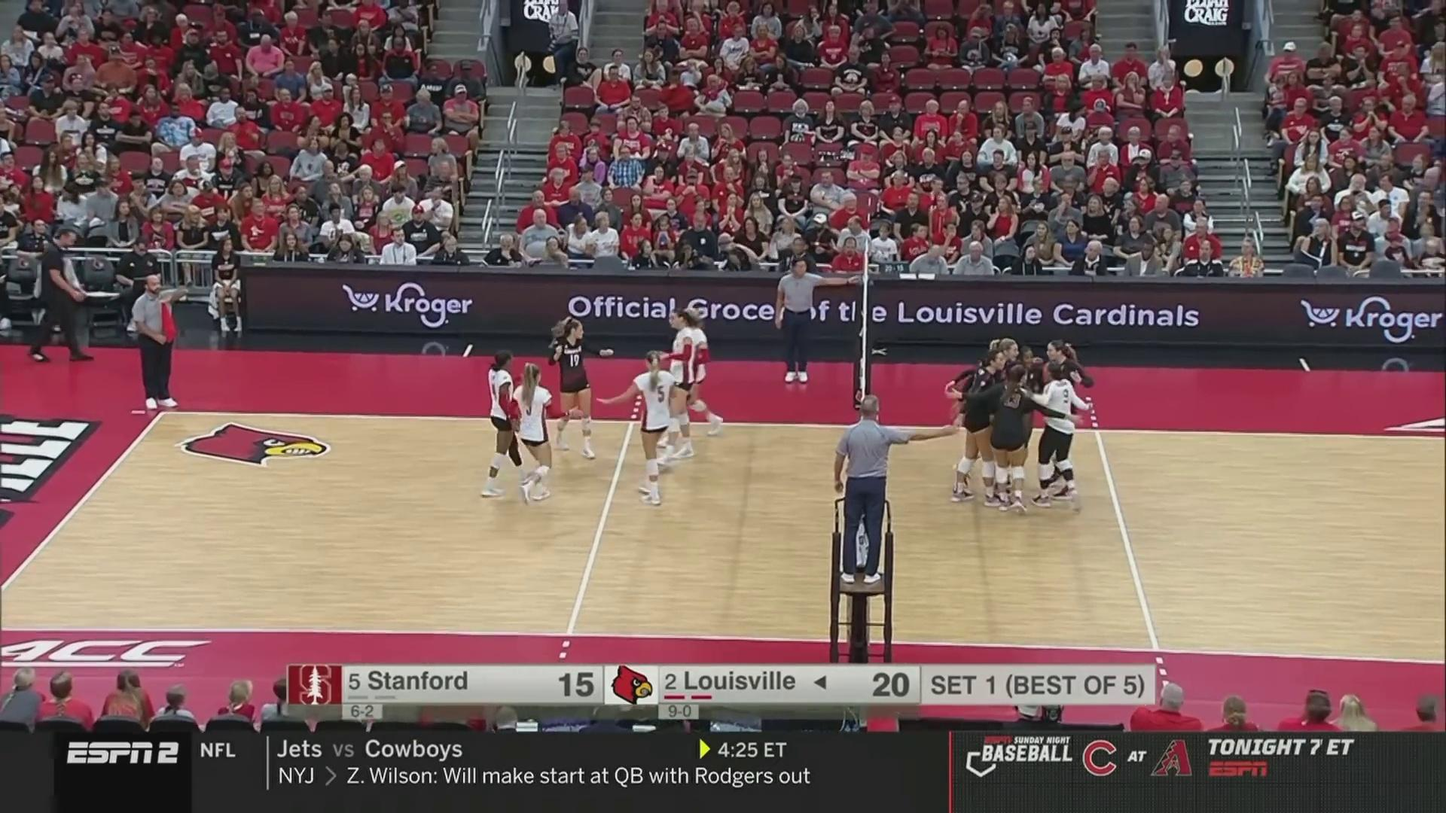player: (954, 336, 1018, 502), (614, 348, 680, 508), (949, 352, 1017, 505), (543, 318, 610, 462), (989, 364, 1049, 507), (1033, 361, 1089, 507), (1039, 340, 1093, 489), (474, 351, 524, 504), (652, 314, 710, 445), (513, 364, 565, 501), (1009, 343, 1050, 497), (679, 312, 728, 434)
refree: (832, 396, 913, 580), (128, 268, 191, 412), (775, 256, 838, 385)
